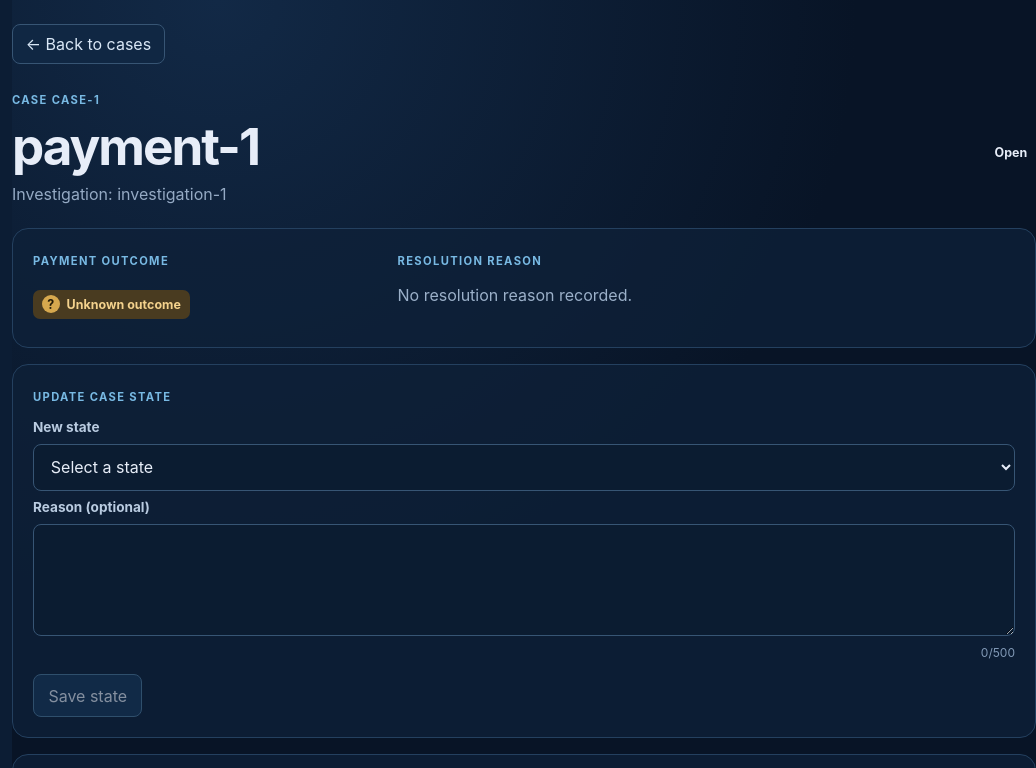
Test case: case workflow presentation › shows a safe idempotency conflict without retrying automatically
Select "Under review" in the dropdown labelled "New state" at coordinates (524, 467), box [33,444,1015,490]
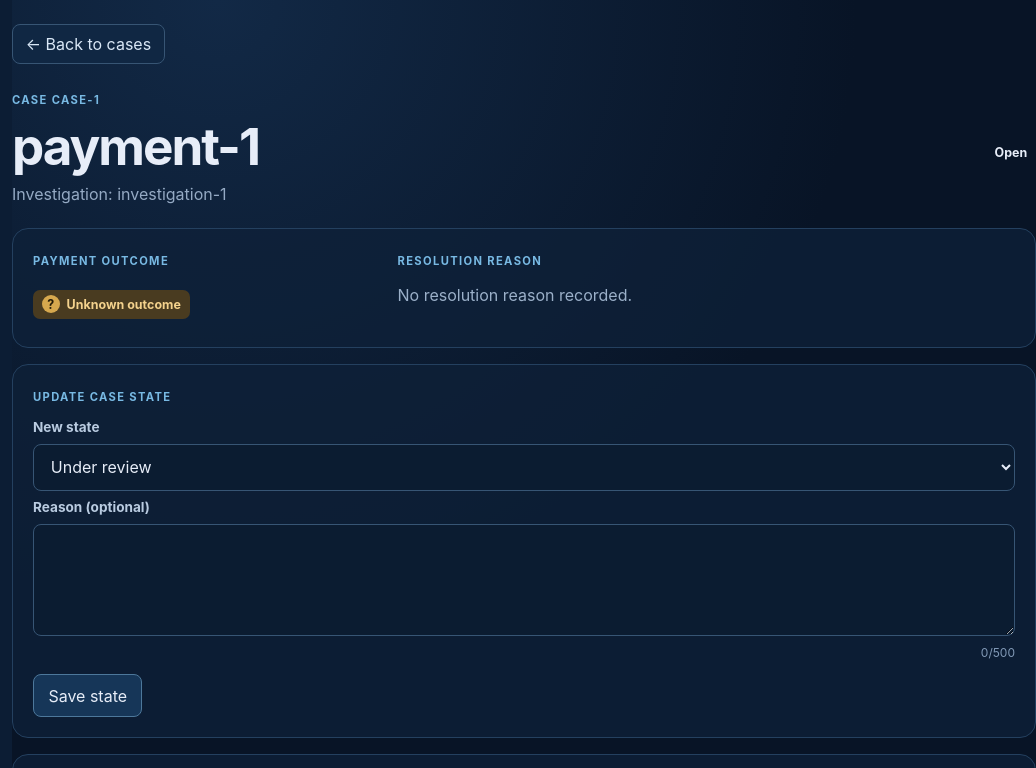
Click the button "Save state" at coordinates (88, 696), box [33,674,142,717]
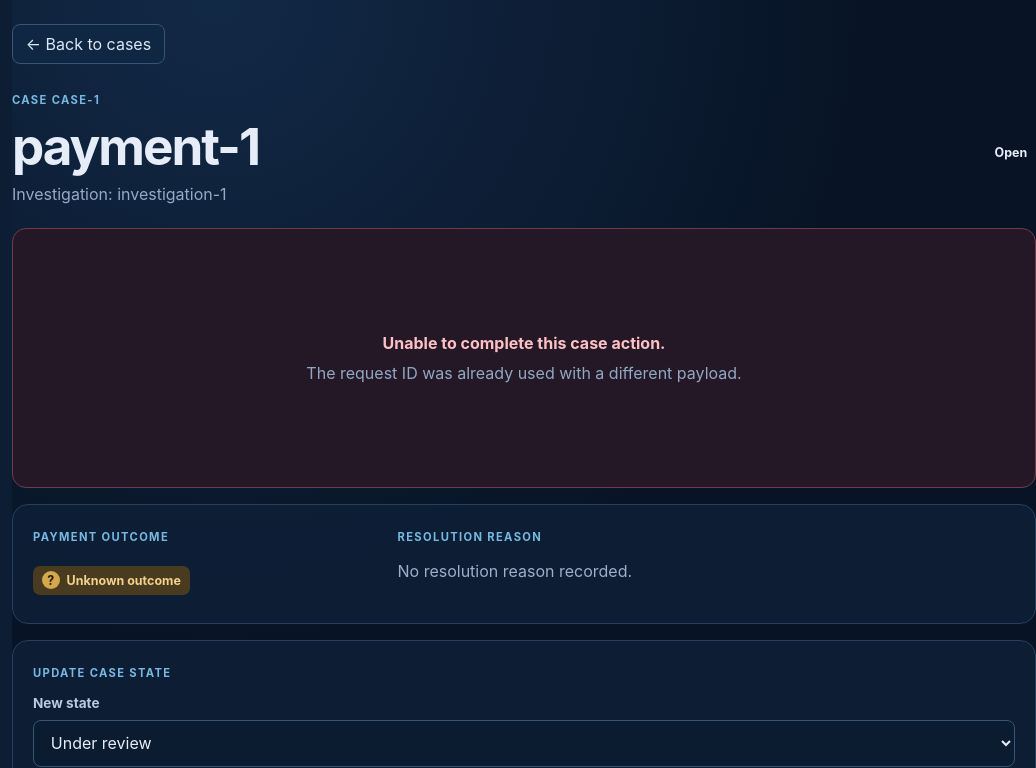
Result: the message shows "The request ID was already used with a different payload." at [306,363,742,383]
